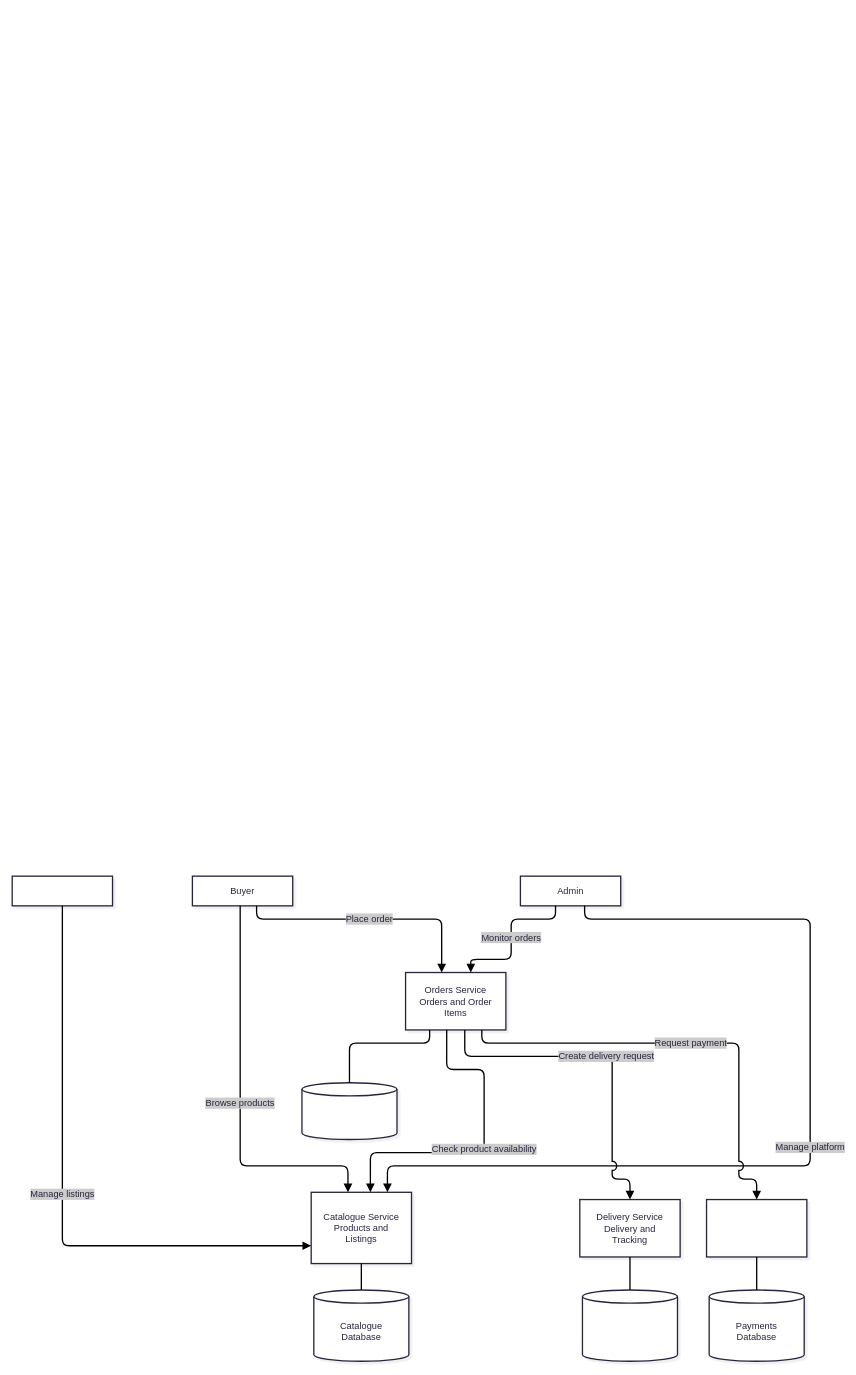
Image size: 856x1375. Some labels were removed from this diagram. Each missing label, with the centre of its shape:
Delivery Database: point 630,1326
Farmer: point 63,892
Orders Database: point 350,1112
Payments Service Payment Records: point 758,1229
